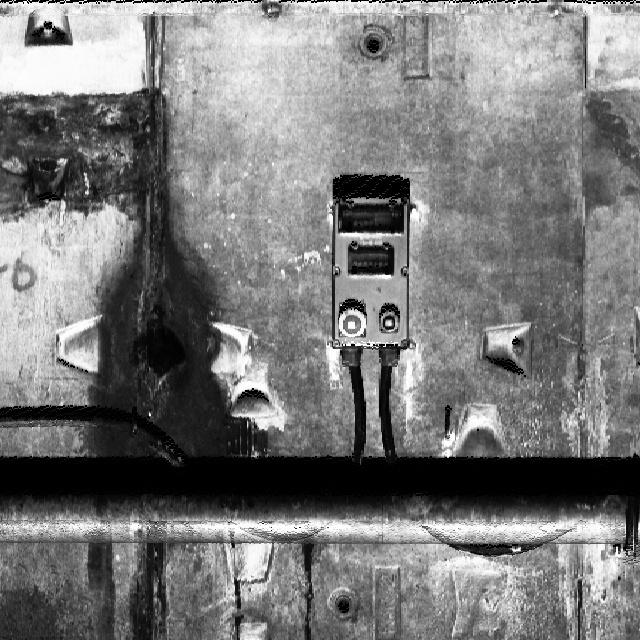leakage: (74, 210, 275, 455), (82, 526, 171, 639), (0, 585, 66, 636)
